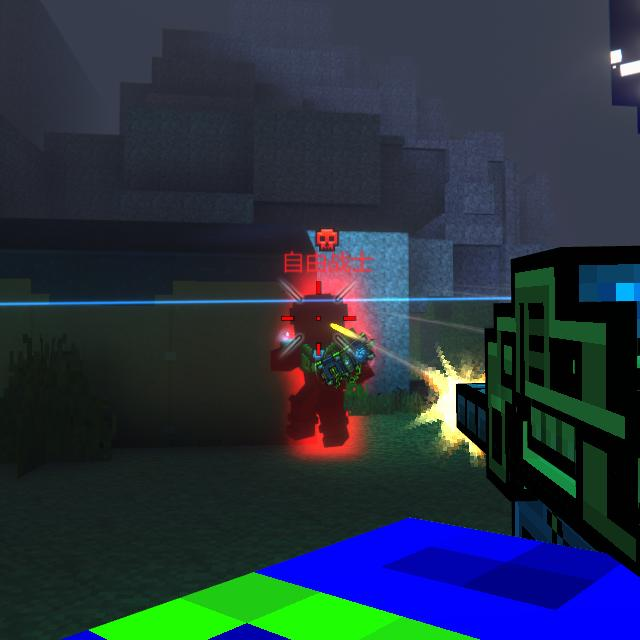Enemy: (274, 293, 377, 445)
